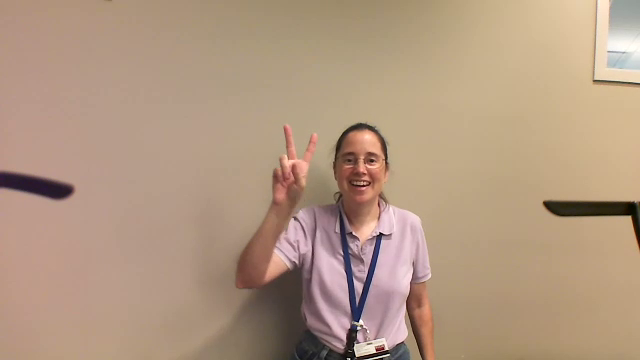peace: (253, 111, 328, 218)
